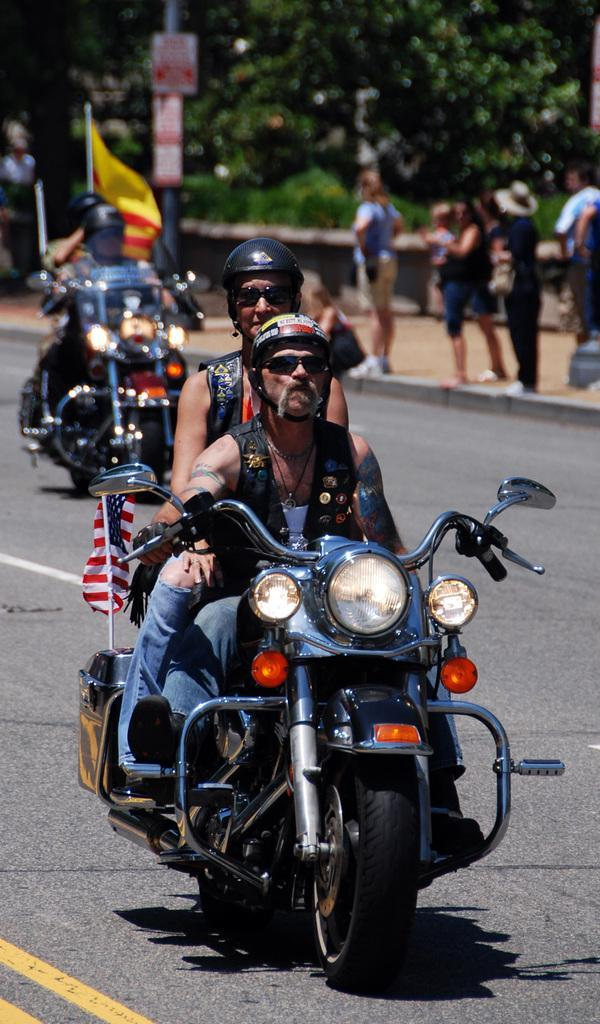helmet: (249, 312, 338, 425), (219, 237, 307, 347), (84, 202, 127, 265)
